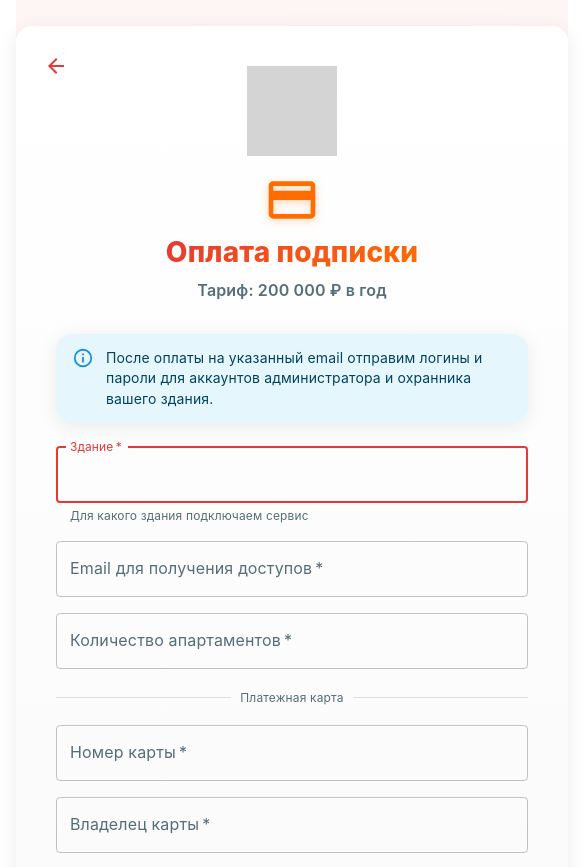
Test: RegistrationPage › shows error when building is missing
The width and height of the screenshot is (585, 867).
In the field labelled "Email для получения доступов *": (292, 569) [56,541,528,597], type "owner@example.com"
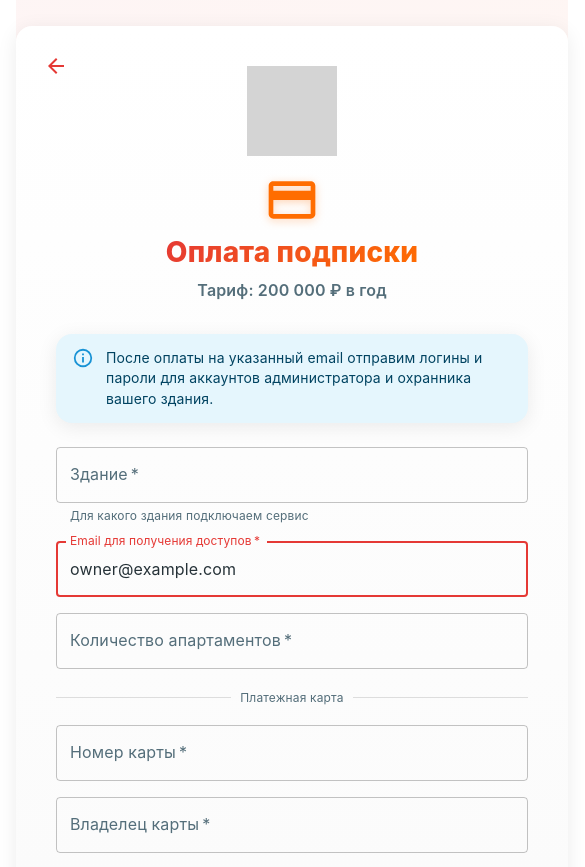
In the number field labelled "Количество апартаментов *": (292, 641) [56,613,528,669], type "120"
(page scrolled)
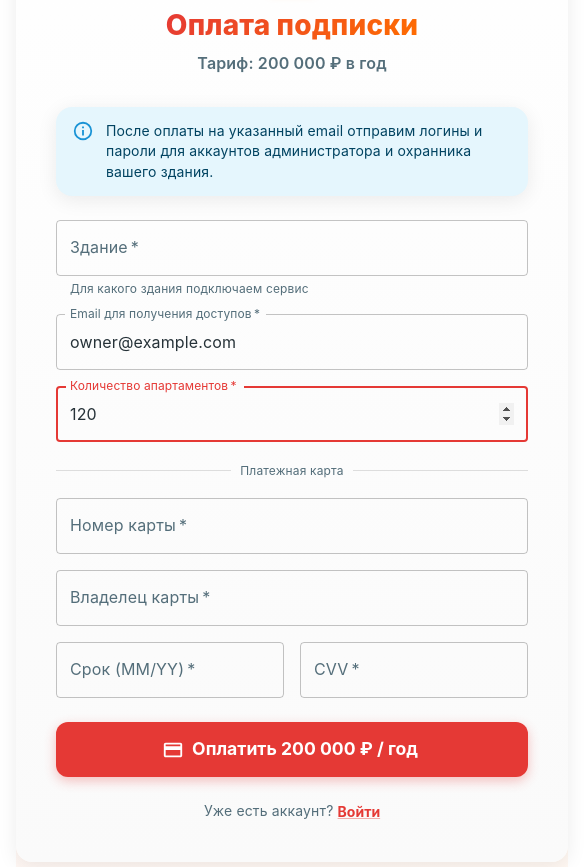
Submit the form, box [56,220,528,777]
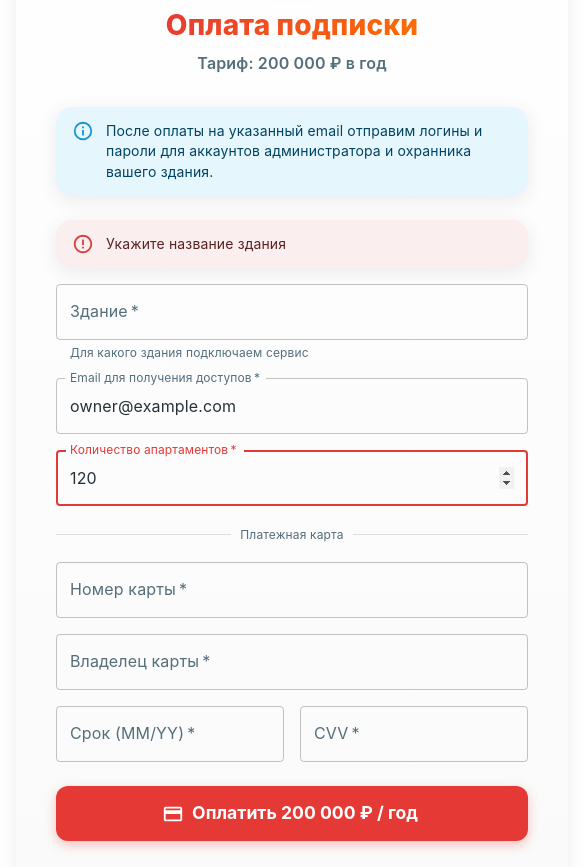
Expected: the text "Укажите название здания" is shown, [106,234,286,252]
